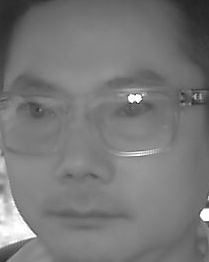glass: (84, 86, 176, 155), (2, 89, 67, 154)
mouth: (45, 194, 119, 234)
